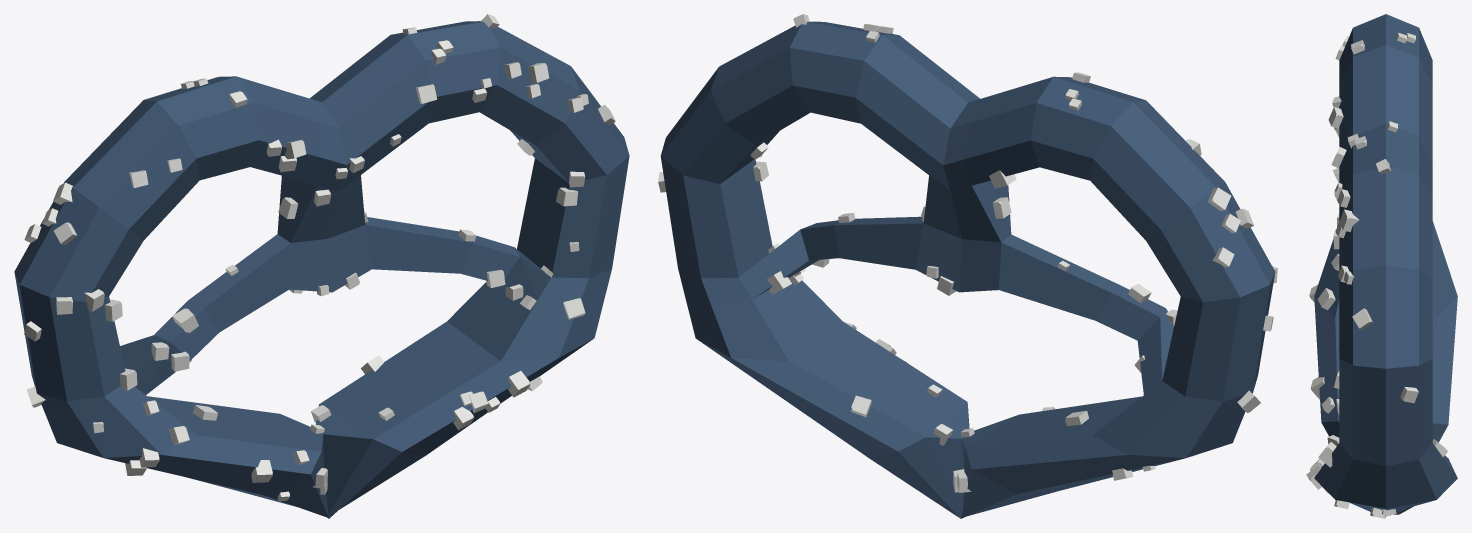
Rendered from bretzel.fbx.
3 renders of one model, left to right at view 1: azimuth 30°, elevation 25°; view 2: azimuth 150°, elevation 25°; view 3: azimuth 270°, elevation 25°, orthographic. The views are drawn at different scales.
Parts seen in each view (by area): view 1: bretzel; view 2: bretzel; view 3: bretzel, bretzel|masterSaltCrystal|Dupli|23, bretzel|masterSaltCrystal|Dupli|17, bretzel|masterSaltCrystal|Dupli|92, bretzel|masterSaltCrystal|Dupli|44, bretzel|masterSaltCrystal|Dupli|13, bretzel|masterSaltCrystal|Dupli|82, bretzel|masterSaltCrystal|Dupli|58.
Part boxes in pixels (x1,y1,x2,y2): bretzel: (14,21,629,518); bretzel: (660,21,1275,518); bretzel: (1314,14,1457,514); bretzel|masterSaltCrystal|Dupli|23: (1339,209,1359,231); bretzel|masterSaltCrystal|Dupli|17: (1352,308,1372,329); bretzel|masterSaltCrystal|Dupli|92: (1317,288,1335,310); bretzel|masterSaltCrystal|Dupli|44: (1318,442,1336,467); bretzel|masterSaltCrystal|Dupli|13: (1400,387,1418,403); bretzel|masterSaltCrystal|Dupli|82: (1328,107,1343,128); bretzel|masterSaltCrystal|Dupli|58: (1310,377,1324,399).
Bounding box in the file's own units: 702 × 512 × 163.
